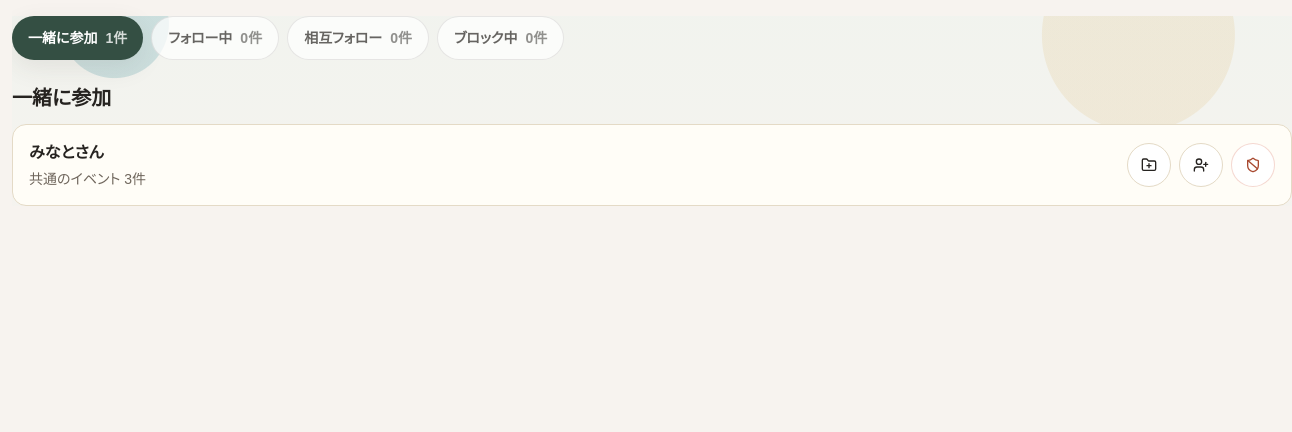
Test: ConnectionList › お気に入りの撤去とグループ › 30人に達したグループは、まだ入っていない人には選べない
This screenshot has width=1292, height=432.
Click the button named "グループに入れる".
click(1149, 165)  # box [1127,143,1171,187]
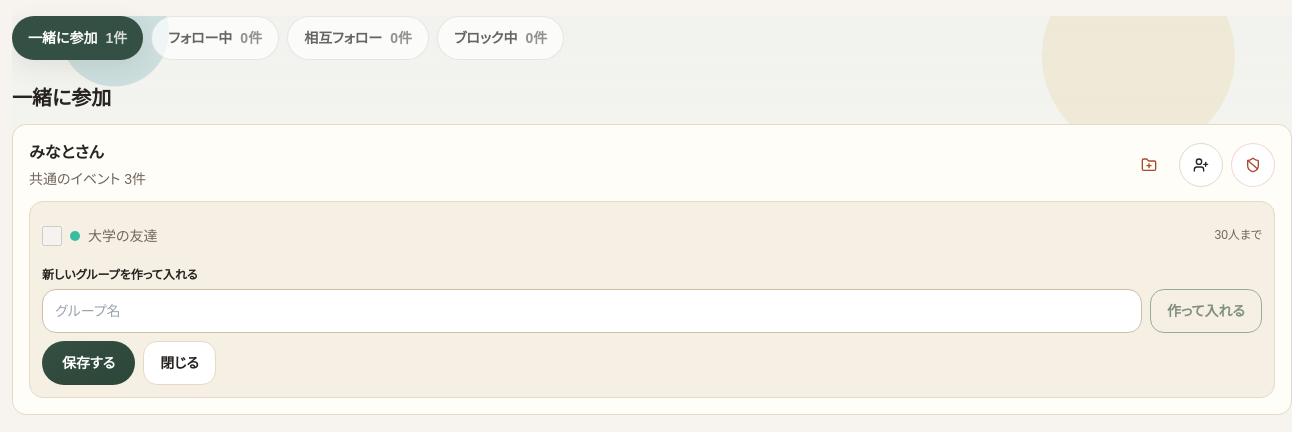
Expected: the checkbox labelled "大学の友達 30人まで" is disabled, [42,226,62,246]
Expected: the text "30人まで" is shown, [1214,226,1262,246]
